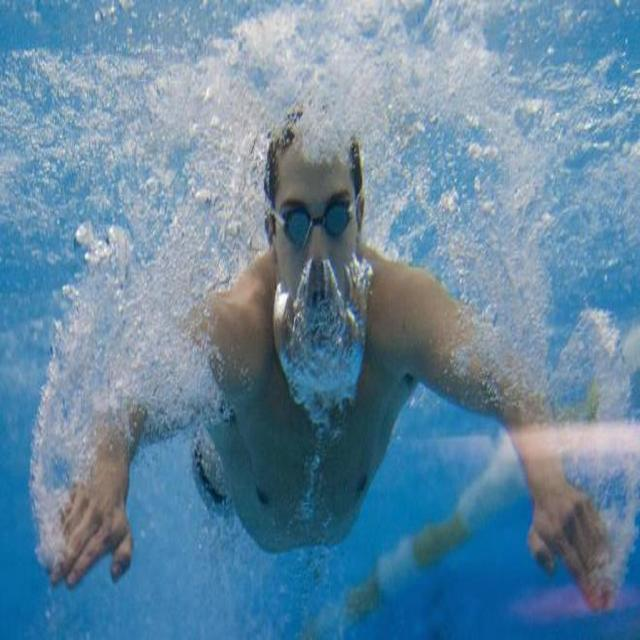Face: (274, 135, 366, 317)
